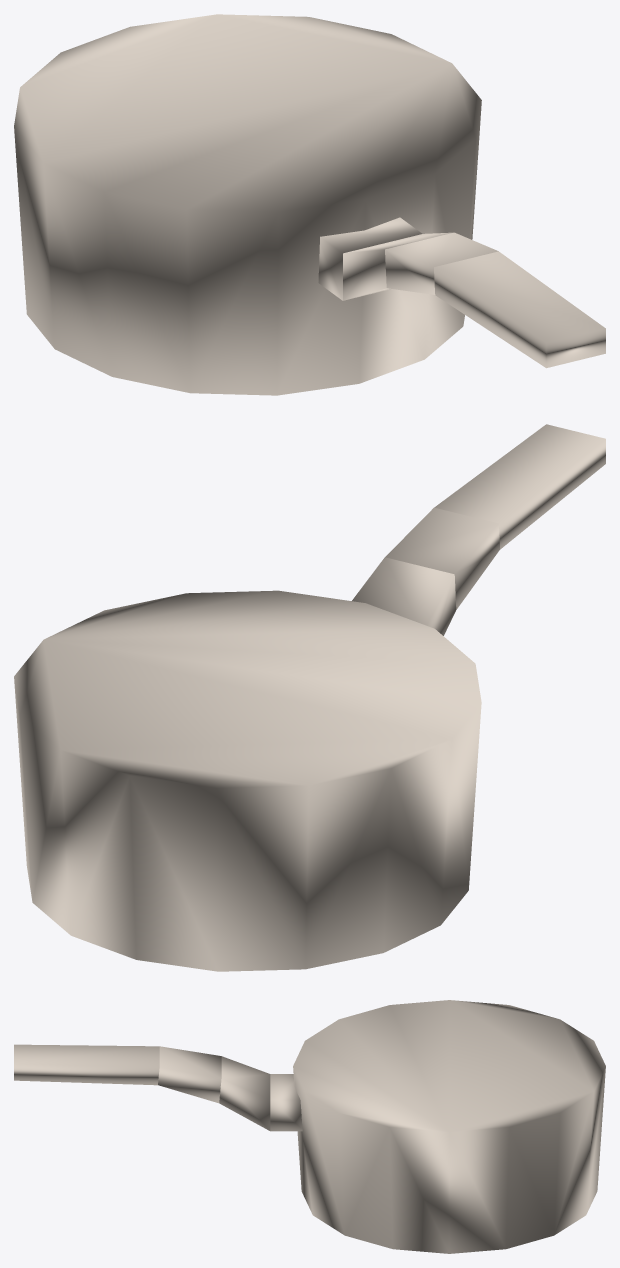
The model's file is cooking_pot_physic.fbx.
3 views of the same model, one above another, from view 1: azimuth 30°, elevation 25°; view 2: azimuth 150°, elevation 25°; view 3: azimuth 270°, elevation 25° (orthographic). The views are drawn at different scales.
Parts seen in each view (by area): view 1: pot_physics; view 2: pot_physics; view 3: pot_physics.
Part boxes in pixels (box(x1,y1,x2,y2)): pot_physics: box(14, 14, 605, 395); pot_physics: box(14, 424, 605, 971); pot_physics: box(14, 1000, 605, 1253).
Bounding box in the file's own units: 1181 × 571 × 2233.
